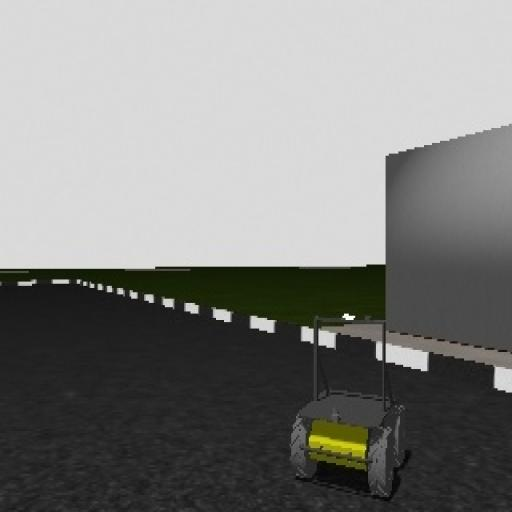huskya200: (280, 304, 412, 504)
